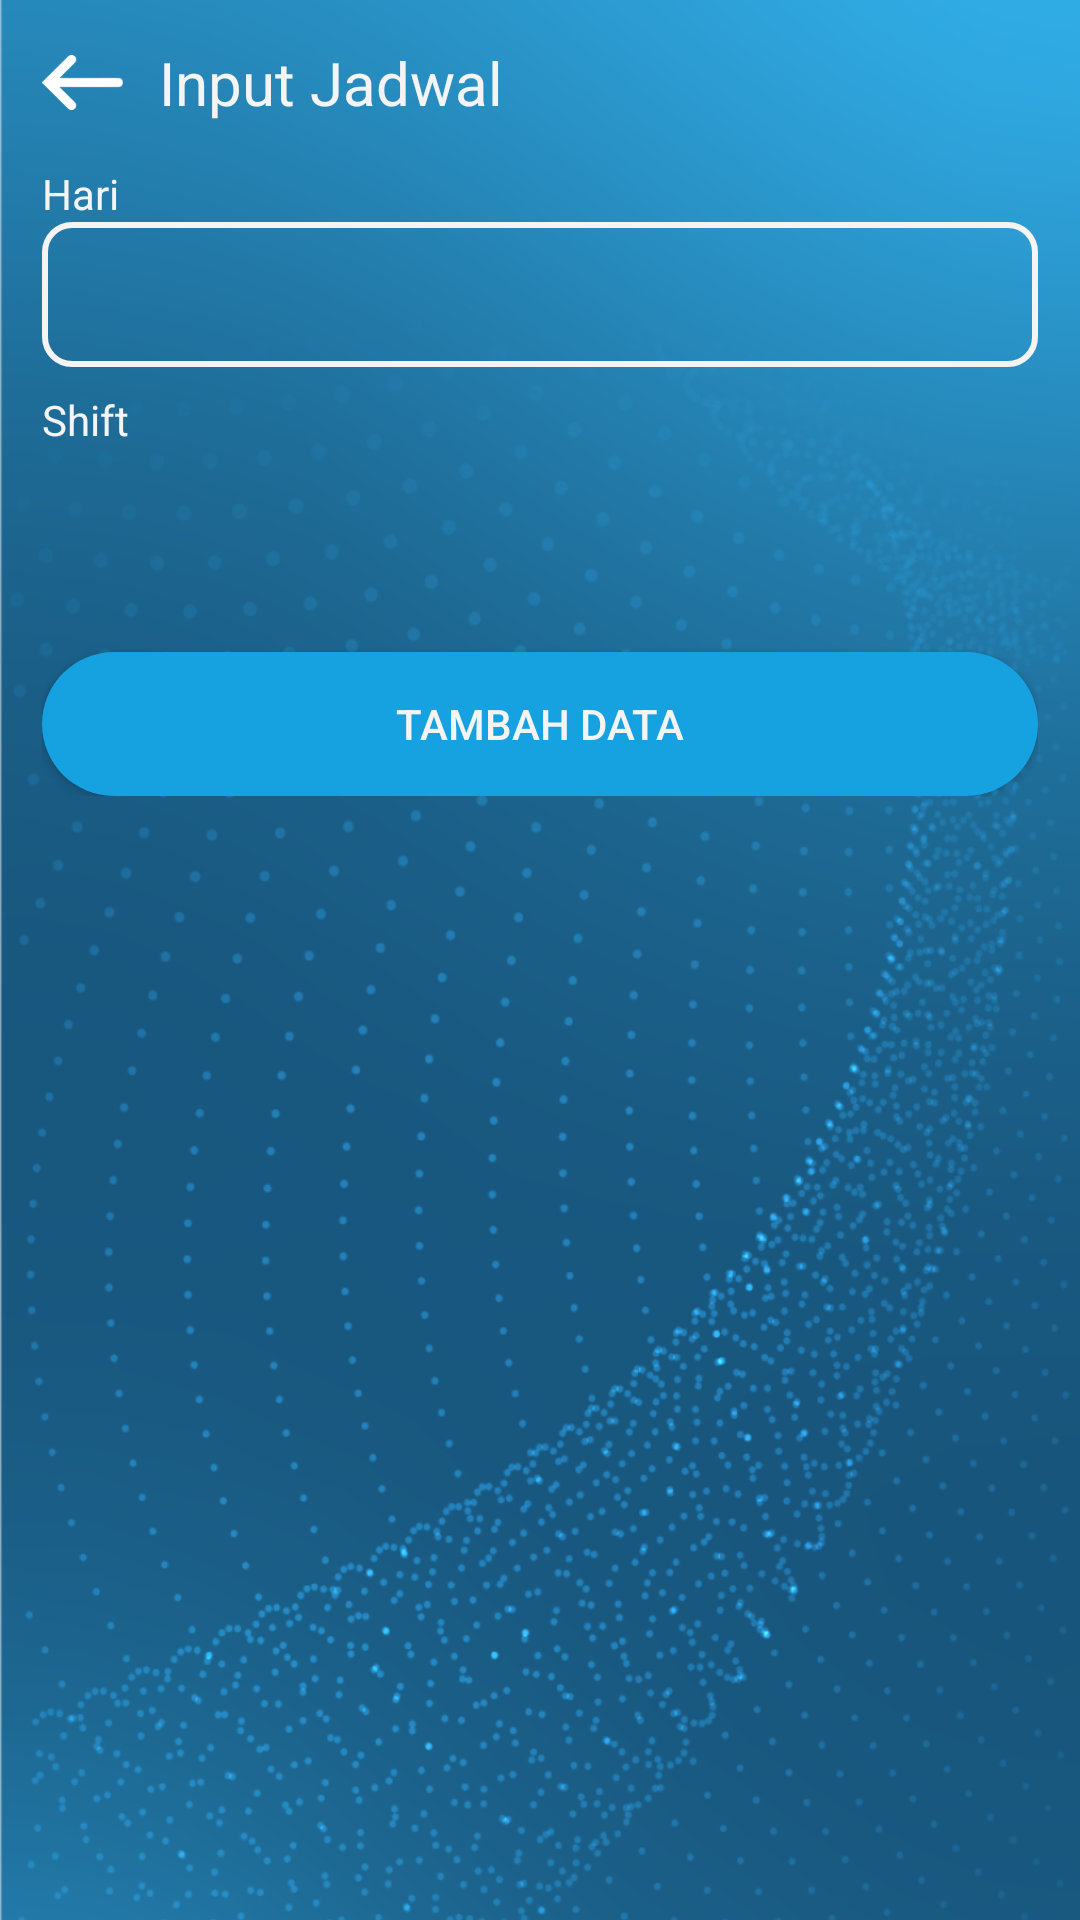

Named icons in this screenshot (1080 x 1920) and their bounding boxes, (x1, y1, x2, y2):
back: (42, 55, 123, 110)
